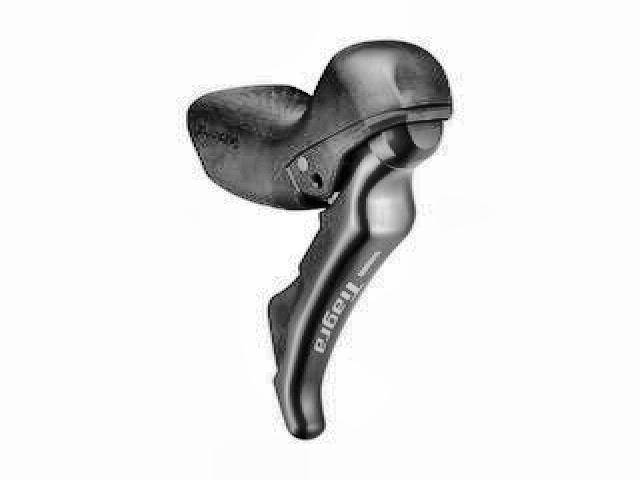sti_shifter: (184, 39, 460, 443)
